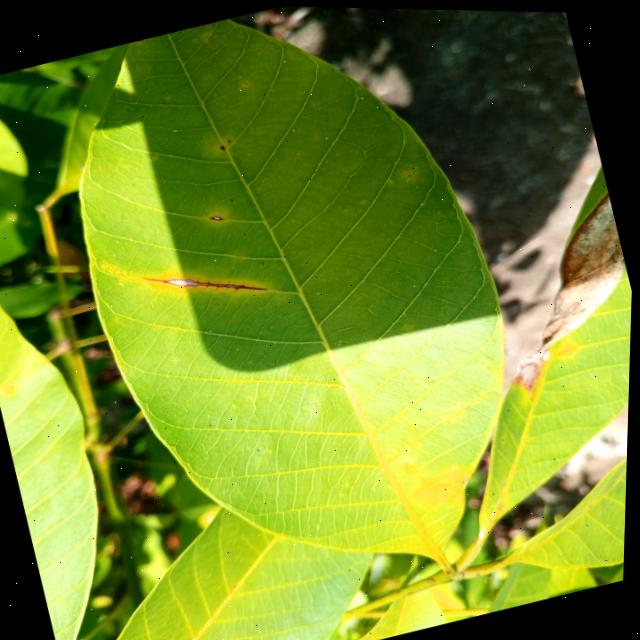Colletotrichum: (213, 214, 223, 220), (221, 144, 226, 149)
Corynespora: (146, 247, 269, 318)
Leaf-Blight: (471, 182, 636, 389)
